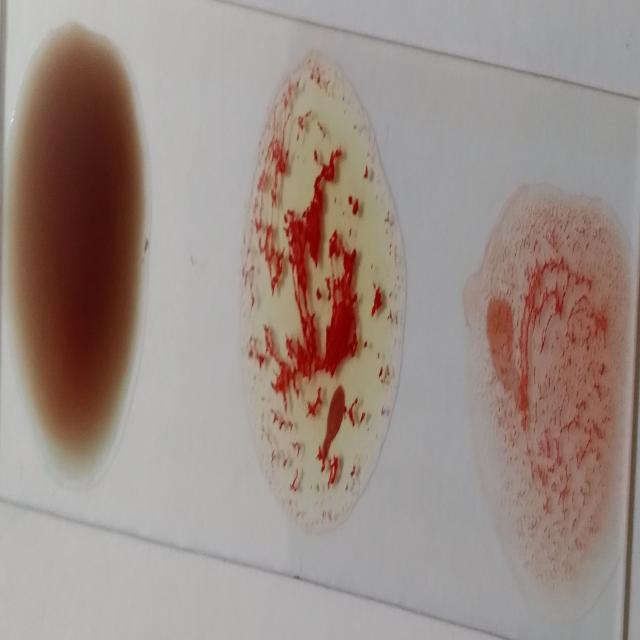B: (241, 73, 407, 542)
D: (489, 208, 616, 611)
